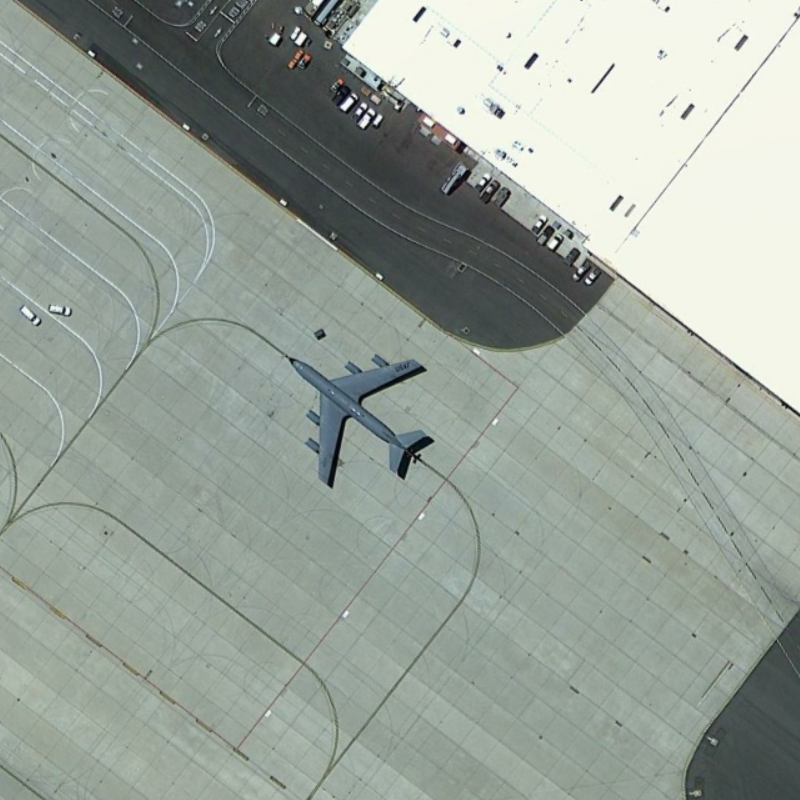A14: (279, 342, 439, 494)
